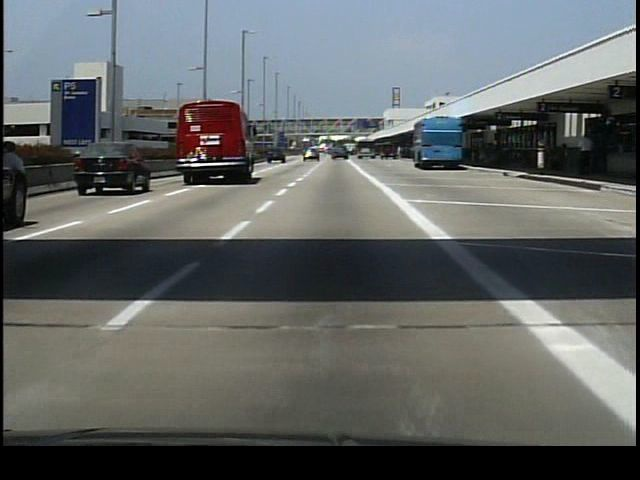person: (577, 133, 596, 180)
